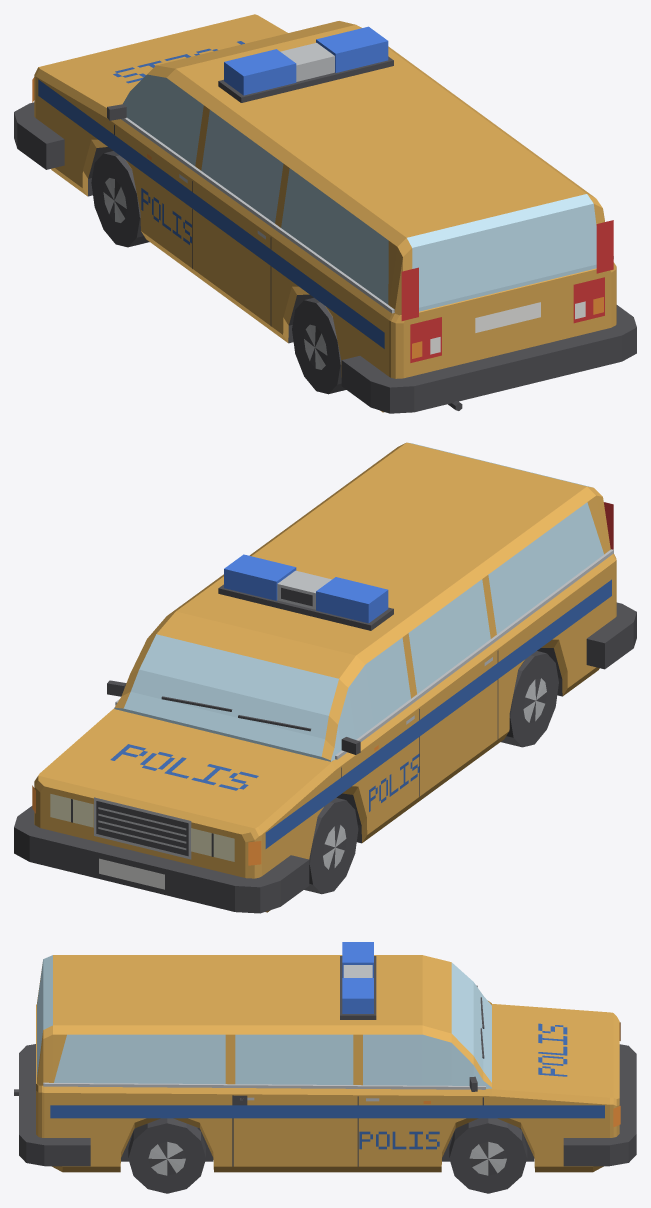
Rendered from police_car.glb.
3 views of the same model, one above another, from view 1: azimuth 30°, elevation 25°; view 2: azimuth 150°, elevation 25°; view 3: azimuth 270°, elevation 25° (orthographic). The views are drawn at different scales.
Visible parts, largest first — view 1: body, door_FL, wheel_FL, wheel_RL, beacon_L, beacon_R; view 2: body, door_FL, wheel_RL, wheel_FL, beacon_L, beacon_R; view 3: body, door_FR, wheel_FR, wheel_RR, beacon_R, beacon_L.
Part boxes in pixels (x1,y1,x2,y2): body: [14, 14, 636, 413]; door_FL: [114, 74, 206, 276]; wheel_FL: [91, 151, 149, 247]; wheel_RL: [292, 298, 346, 394]; beacon_L: [224, 49, 296, 95]; beacon_R: [316, 26, 388, 72]; body: [14, 442, 636, 913]; door_FL: [334, 635, 419, 842]; wheel_RL: [501, 651, 558, 747]; wheel_FL: [304, 797, 358, 894]; beacon_L: [316, 577, 388, 623]; beacon_R: [224, 554, 296, 600]; body: [14, 955, 636, 1172]; door_FR: [358, 1034, 483, 1172]; wheel_FR: [449, 1118, 527, 1193]; wheel_RR: [128, 1118, 205, 1193]; beacon_R: [342, 978, 373, 1013]; beacon_L: [342, 942, 373, 977].
Bounding box in the file's own units: 2 × 1.64 × 5.12.
